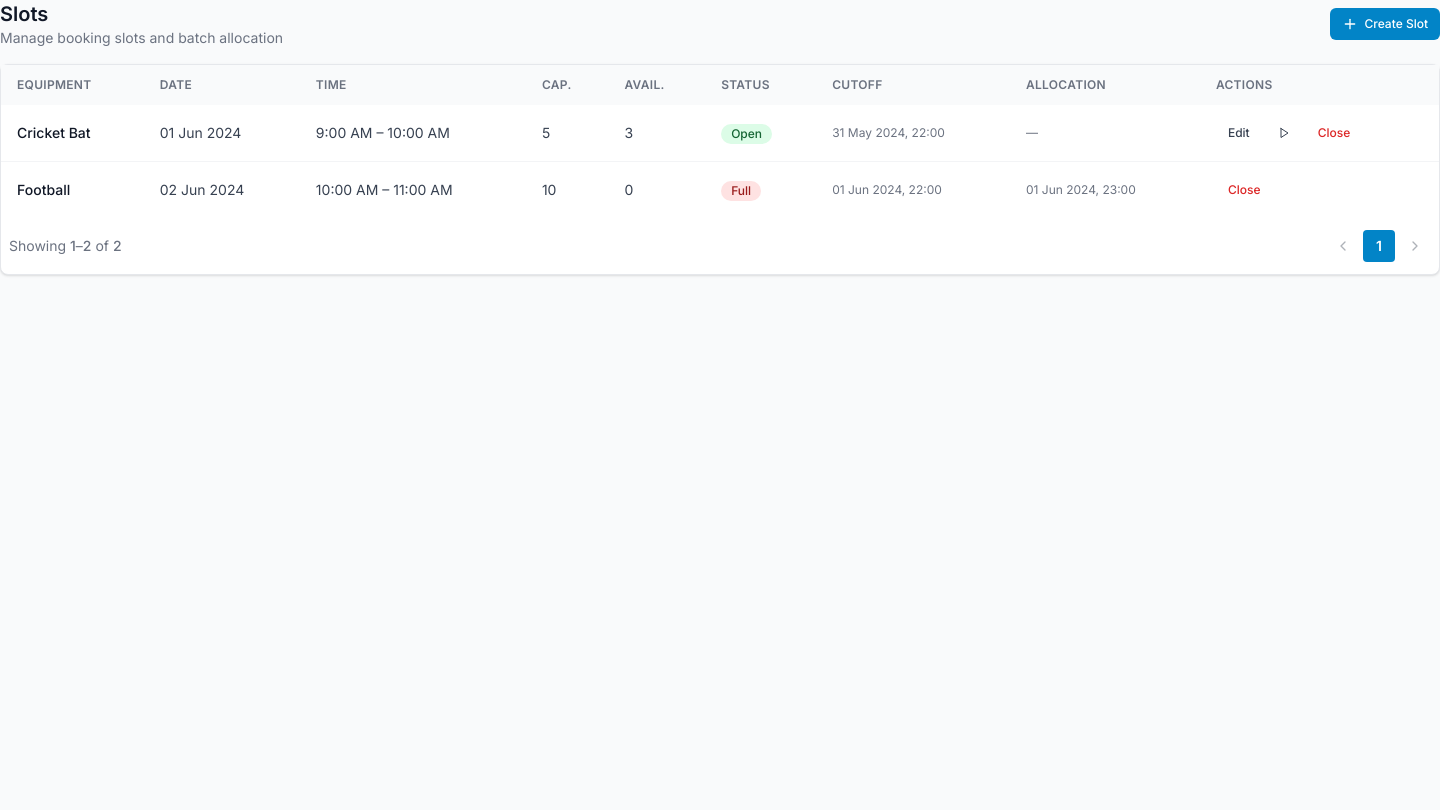
Test: SlotsPage › shows deactivate confirmation when Close is clicked
The width and height of the screenshot is (1440, 810).
Expected: the text "Cricket Bat" is shown, [1, 105, 144, 162]
Step 1. Click the button "Close" in the row of "Cricket Bat" → (1334, 133), box [1306, 117, 1362, 149]
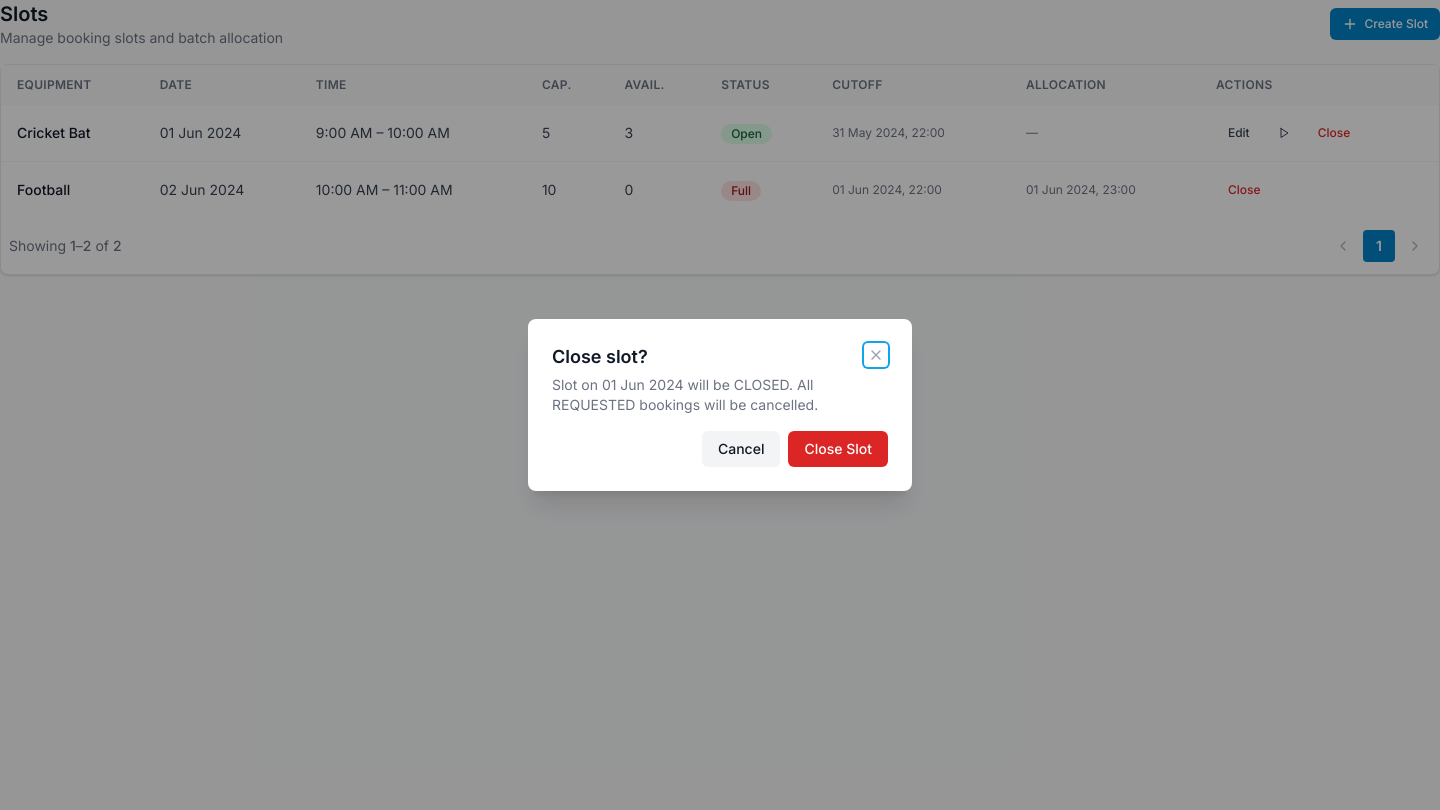
Expected: the heading "Close slot?" is shown, [552, 346, 648, 367]
